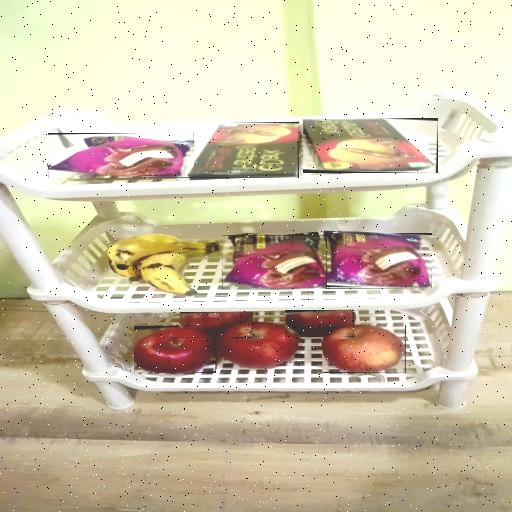Apple: (323, 325, 406, 373), (134, 326, 216, 373), (216, 323, 297, 369), (180, 312, 252, 338), (285, 310, 354, 337)
Choco Fills: (303, 118, 438, 173), (188, 122, 299, 178)
Choco Pie: (48, 133, 194, 178), (326, 234, 432, 290), (222, 235, 329, 290)
